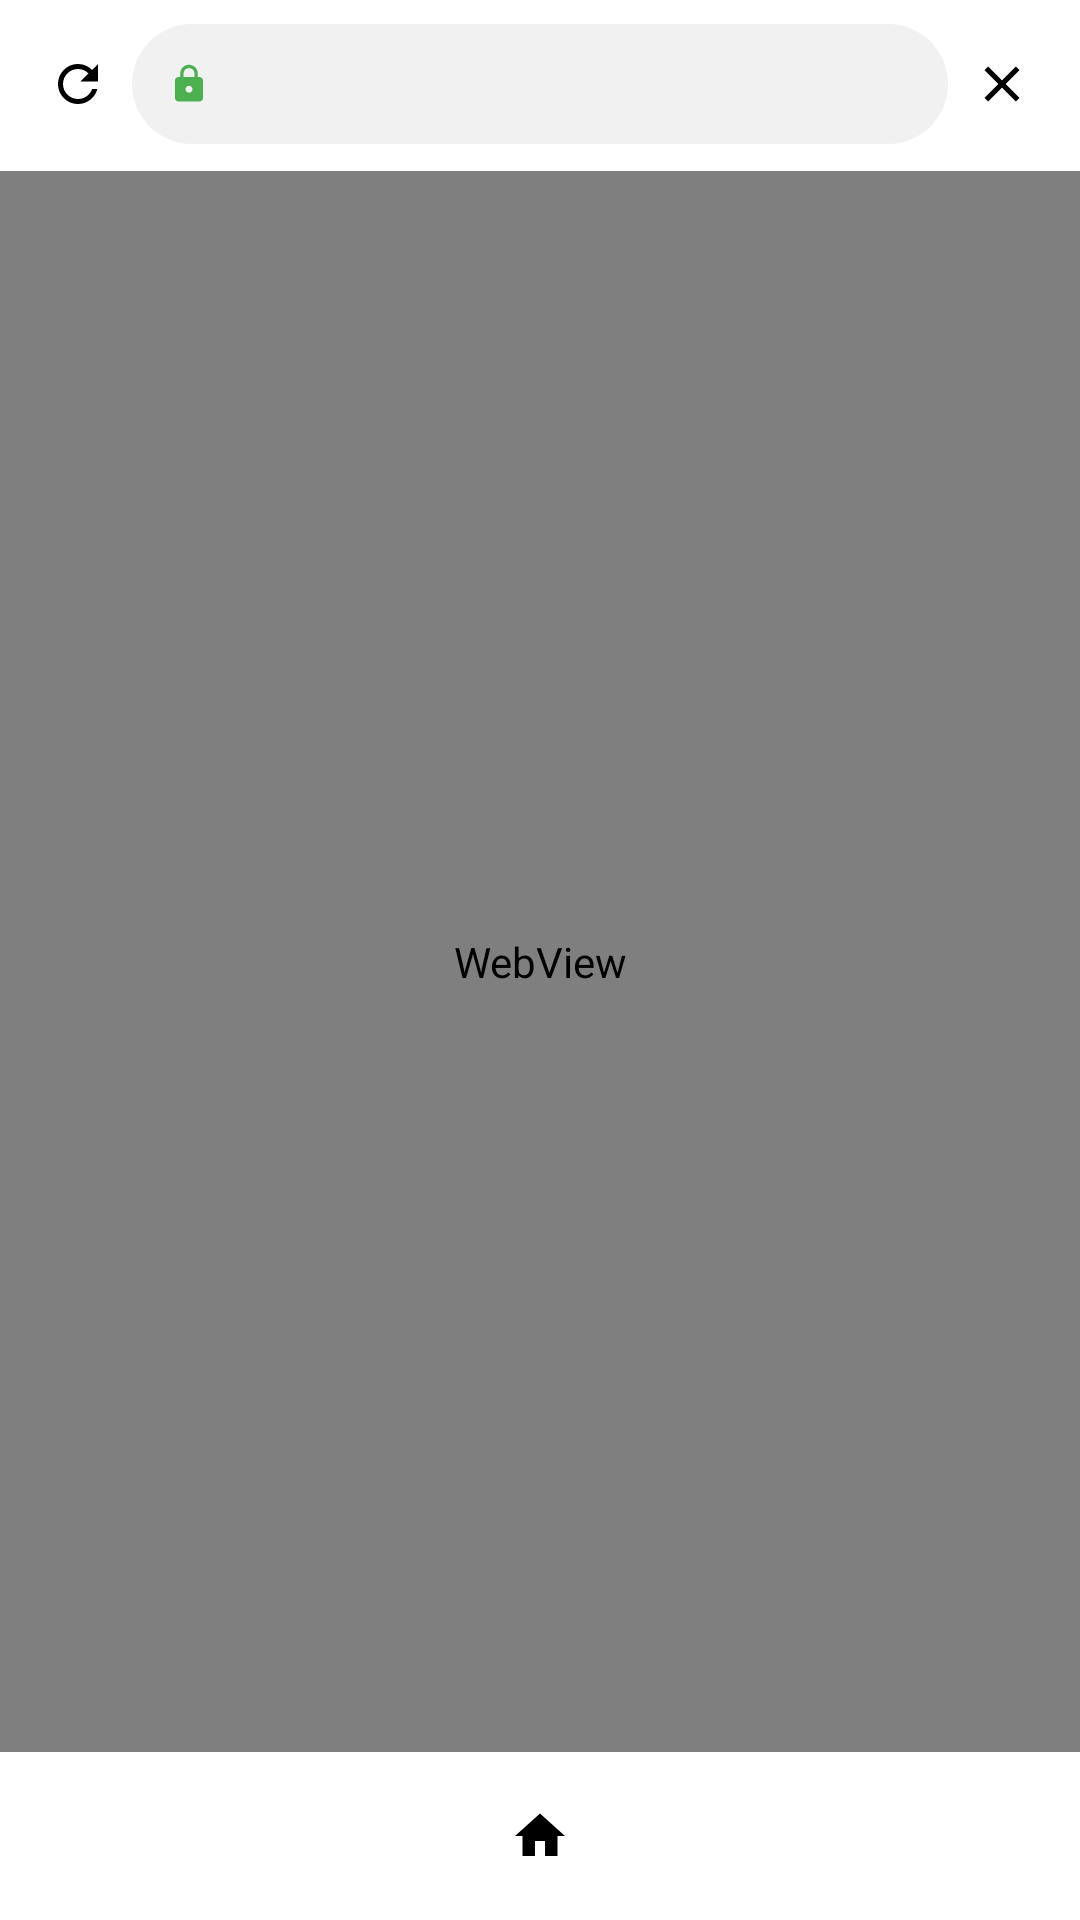

Named icons in this screenshot (1080px×1920px) and their bounding boxes, [x1, y1, x2, y2]:
close: [984, 66, 1020, 102]
home: [515, 1813, 565, 1856]
lock: [175, 64, 203, 102]
refresh: [58, 64, 98, 104]
